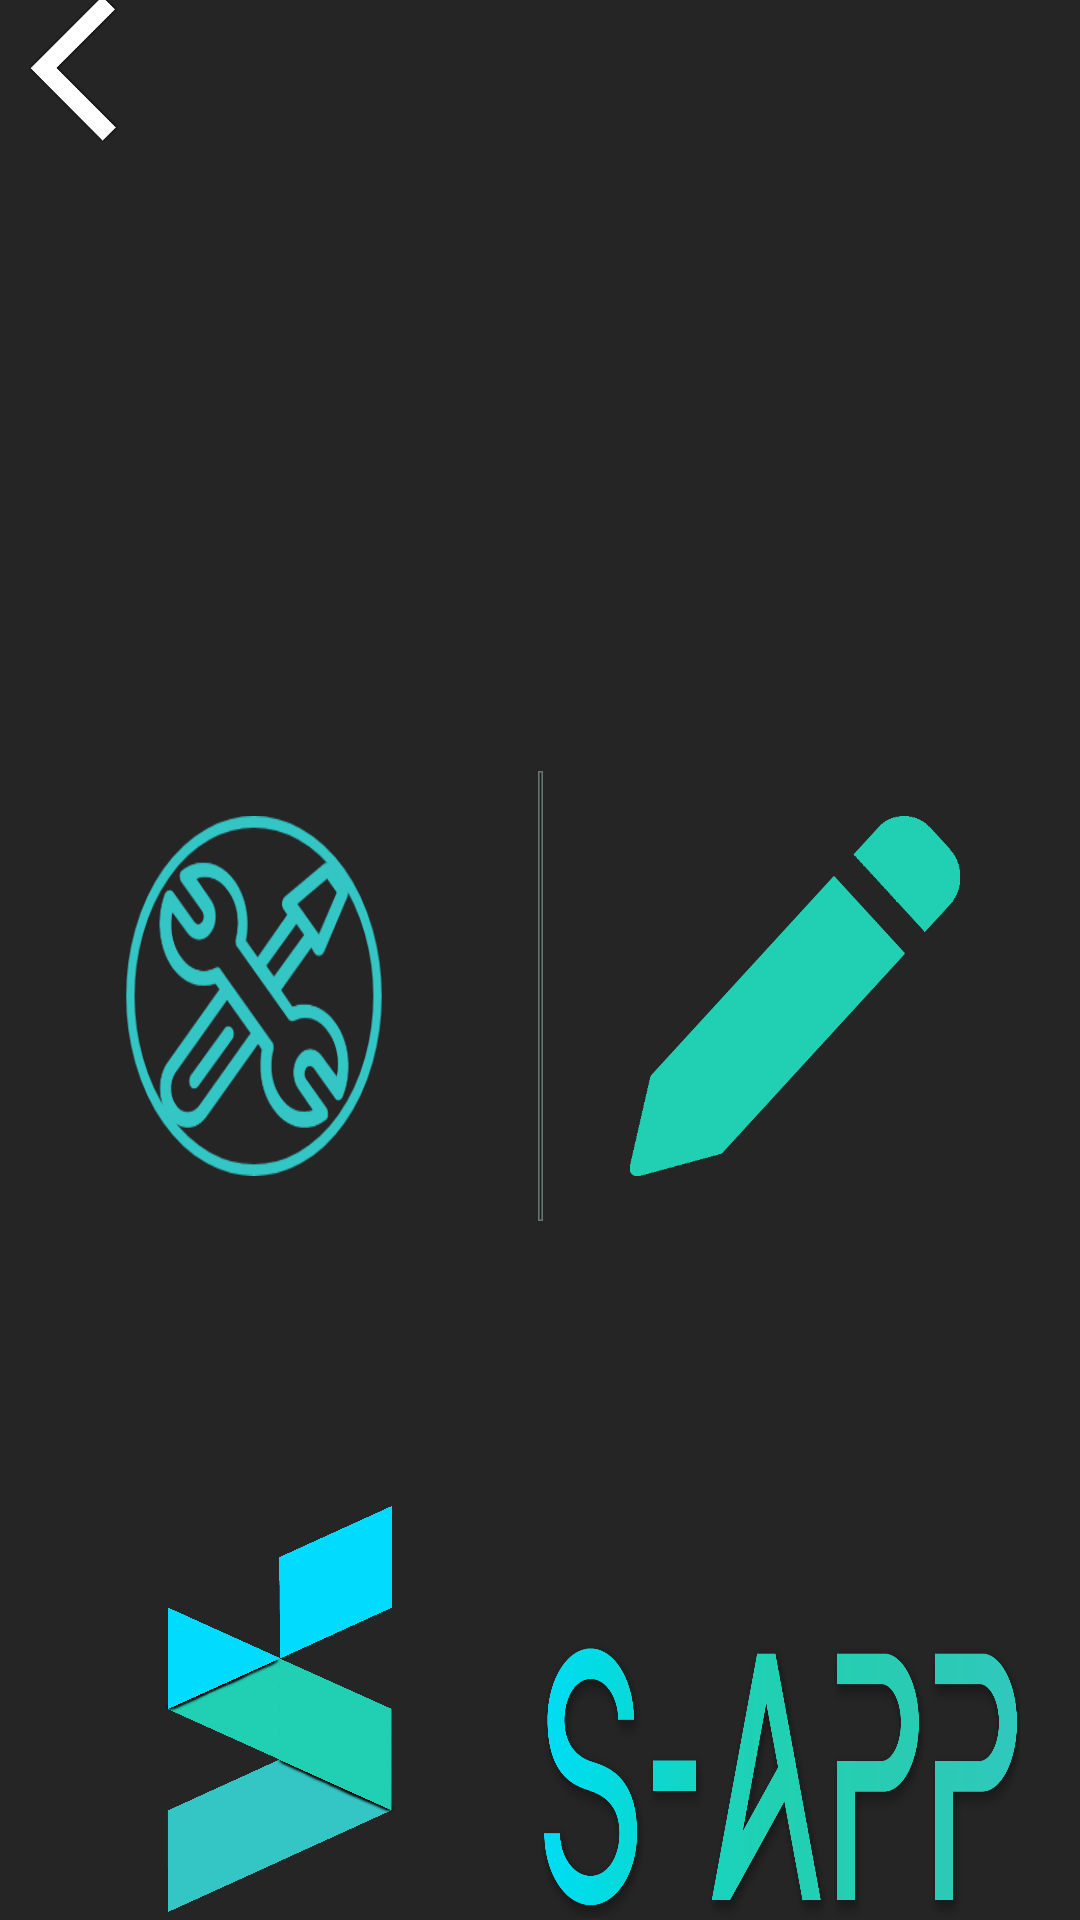

Where icons sit on this 1080w x 1920h app screen, as [x1=x1, y1=y1, x2=x2, y2=y2]:
postavke: [x1=126, y1=816, x2=382, y2=1176]
strelica: [x1=31, y1=0, x2=116, y2=141]
